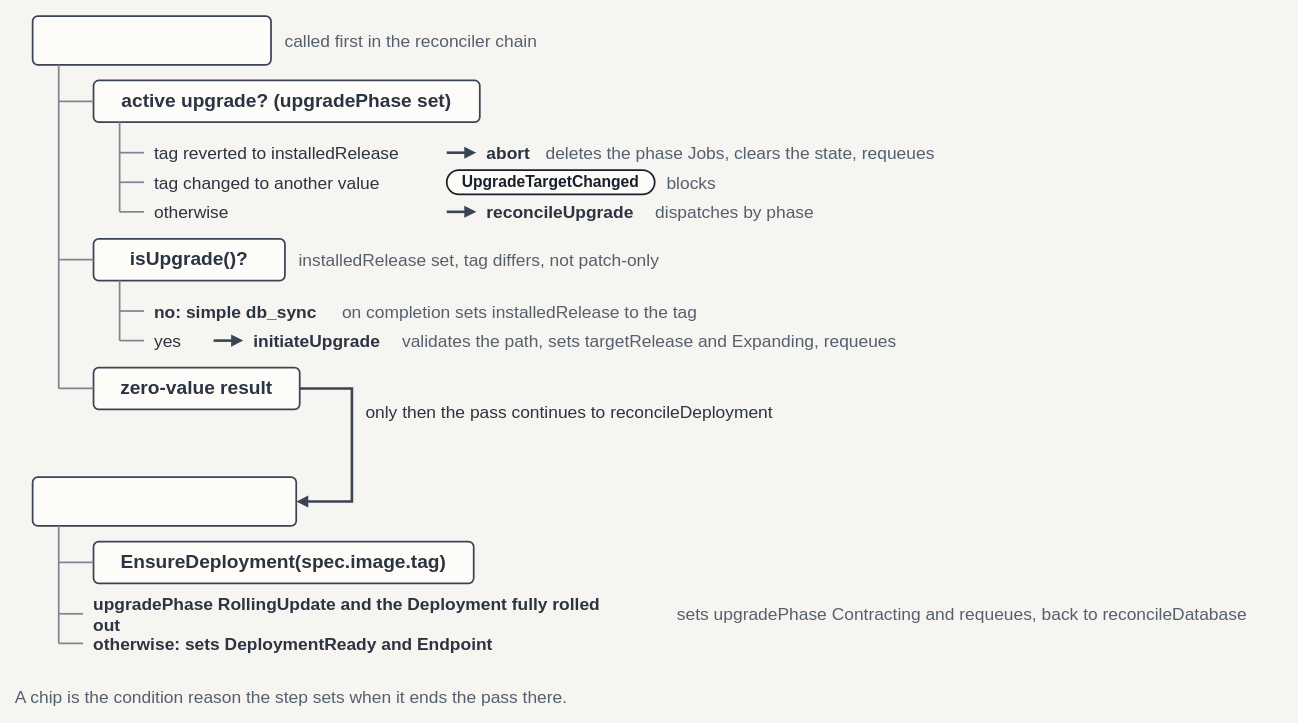
Image size: 1298x723. Some labels were removed from this diagram. Here are the shapes that lost their labels. From the top down, the centre of each, then its label:
At point 151,40: "reconcileDatabase".
At point 164,501: "reconcileDeployment".
